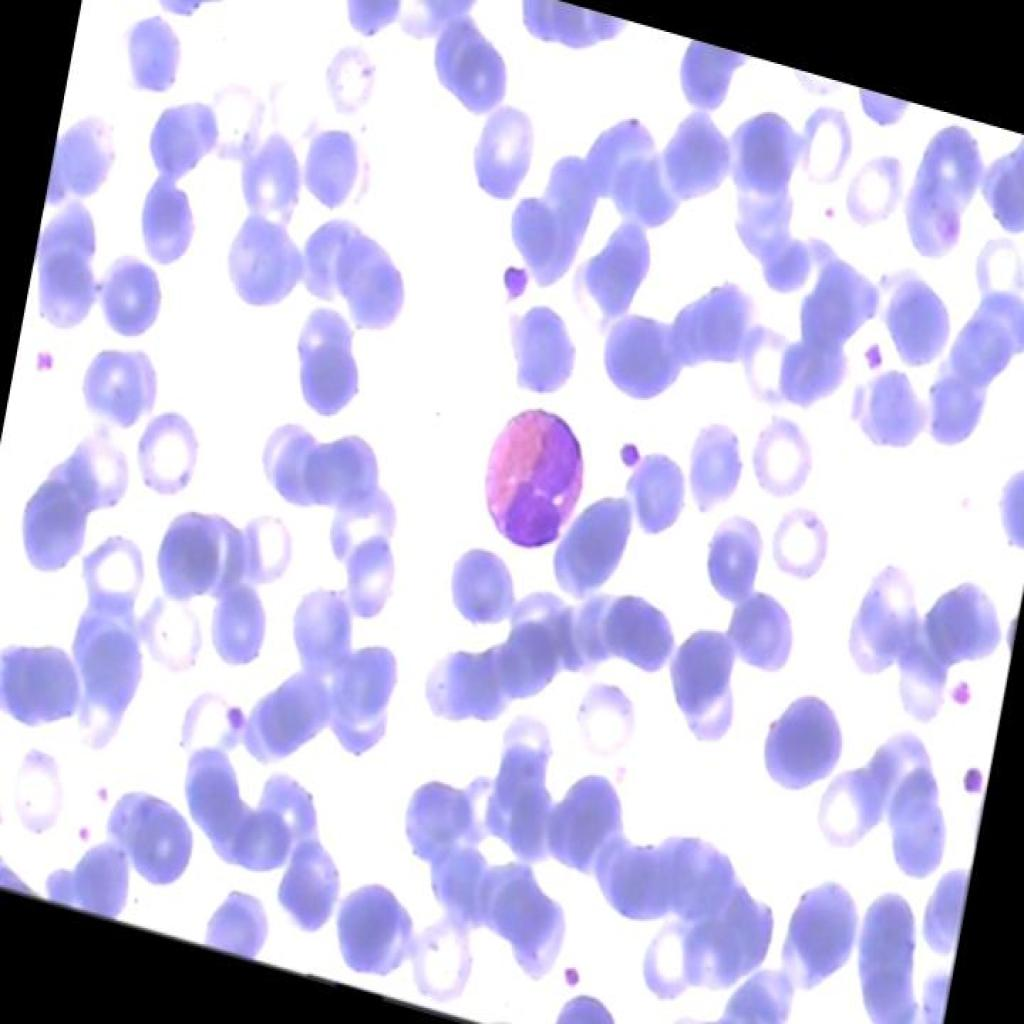Eosinofil: (459, 386, 609, 581)
Platelet: (27, 327, 73, 400), (489, 240, 536, 309), (611, 426, 660, 484), (933, 665, 978, 723), (848, 327, 890, 375), (953, 750, 991, 800), (60, 802, 91, 860), (553, 944, 586, 996), (80, 770, 110, 809), (0, 793, 9, 846)
